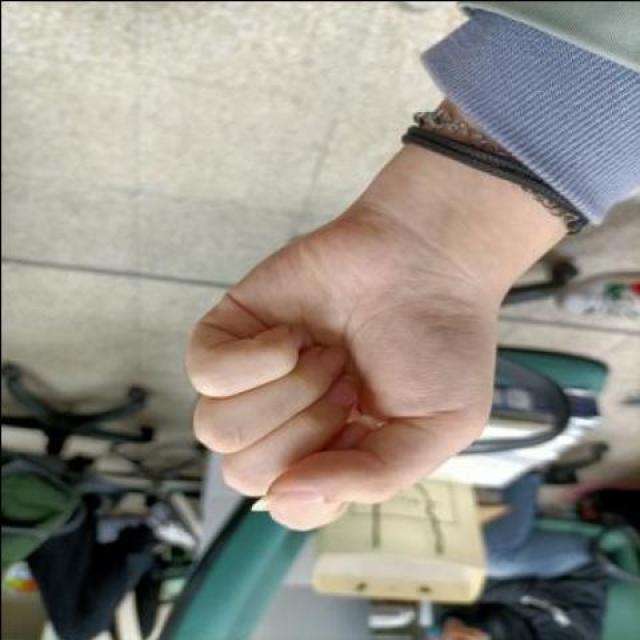Closed Hand: (177, 217, 499, 530)
